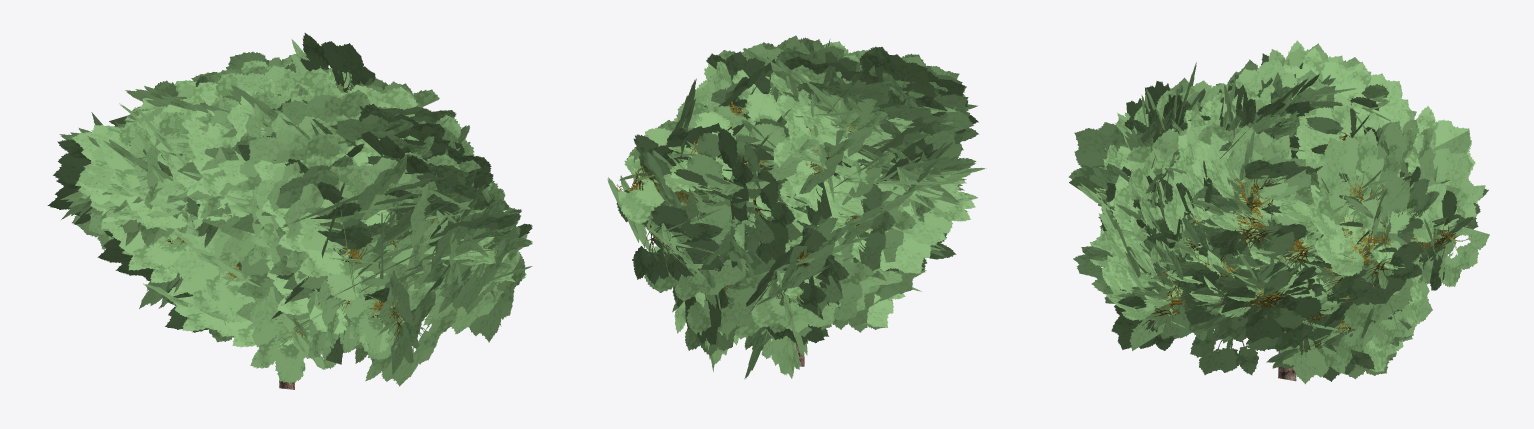
The model's file is bush3.fbx.
The picture shows the model from 3 angles, left to right: view 1: azimuth 30°, elevation 25°; view 2: azimuth 150°, elevation 25°; view 3: azimuth 270°, elevation 25°; orthographic projection. The views are drawn at different scales.
Parts seen in each view (by area): view 1: Bush.001; view 2: Bush.001; view 3: Bush.001.
Boxes of the visible parts, x1,y1,x2,y2 form: Bush.001: (47, 33, 532, 389); Bush.001: (607, 35, 986, 378); Bush.001: (1068, 40, 1489, 384).
Bounding box in the file's own units: 350 × 295 × 389.
